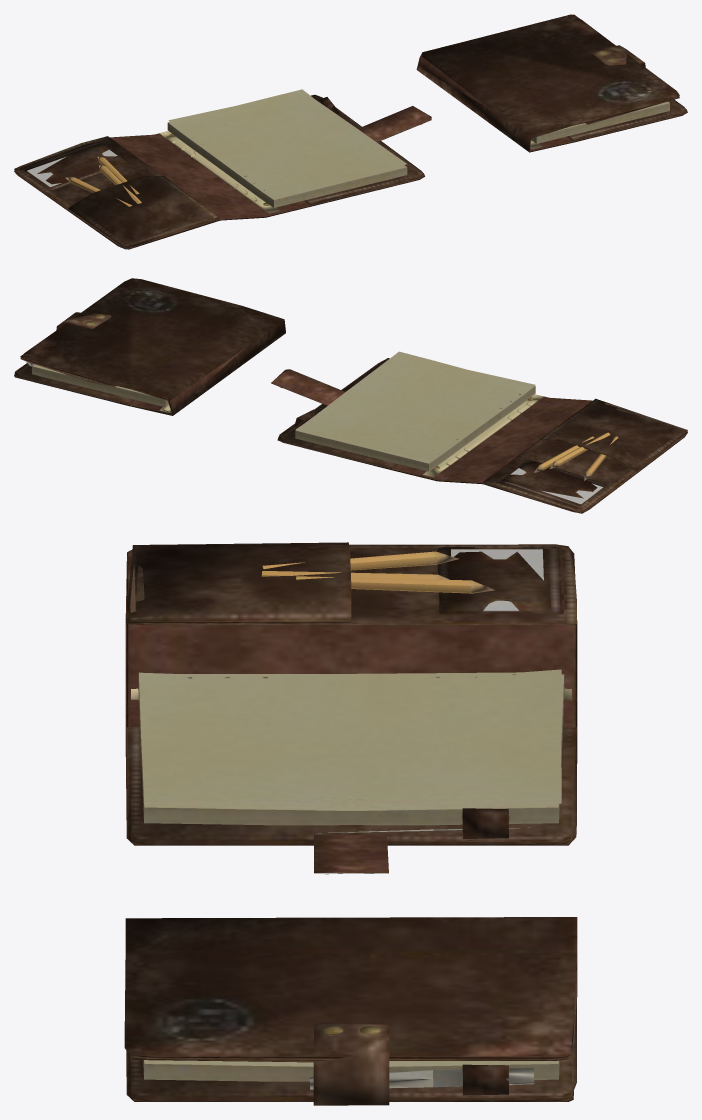
File: binder_notebook.glb
3 views of the same model, one above another, from view 1: azimuth 30°, elevation 25°; view 2: azimuth 150°, elevation 25°; view 3: azimuth 270°, elevation 25° (orthographic). The views are drawn at different scales.
Parts seen in each view (by area): view 1: binder_notebook, binder_notebook_closed; view 2: binder_notebook, binder_notebook_closed; view 3: binder_notebook, binder_notebook_closed.
Boxes of the visible parts, x1=… form: binder_notebook: x1=14, y1=89, x2=431, y2=249; binder_notebook_closed: x1=416, y1=14, x2=687, y2=152; binder_notebook: x1=271, y1=351, x2=687, y2=513; binder_notebook_closed: x1=14, y1=278, x2=285, y2=415; binder_notebook: x1=125, y1=542, x2=577, y2=874; binder_notebook_closed: x1=124, y1=917, x2=577, y2=1105.
Bounding box in the file's own units: 0.582 × 0.0237 × 0.1996.
1 material, 1 textured.
